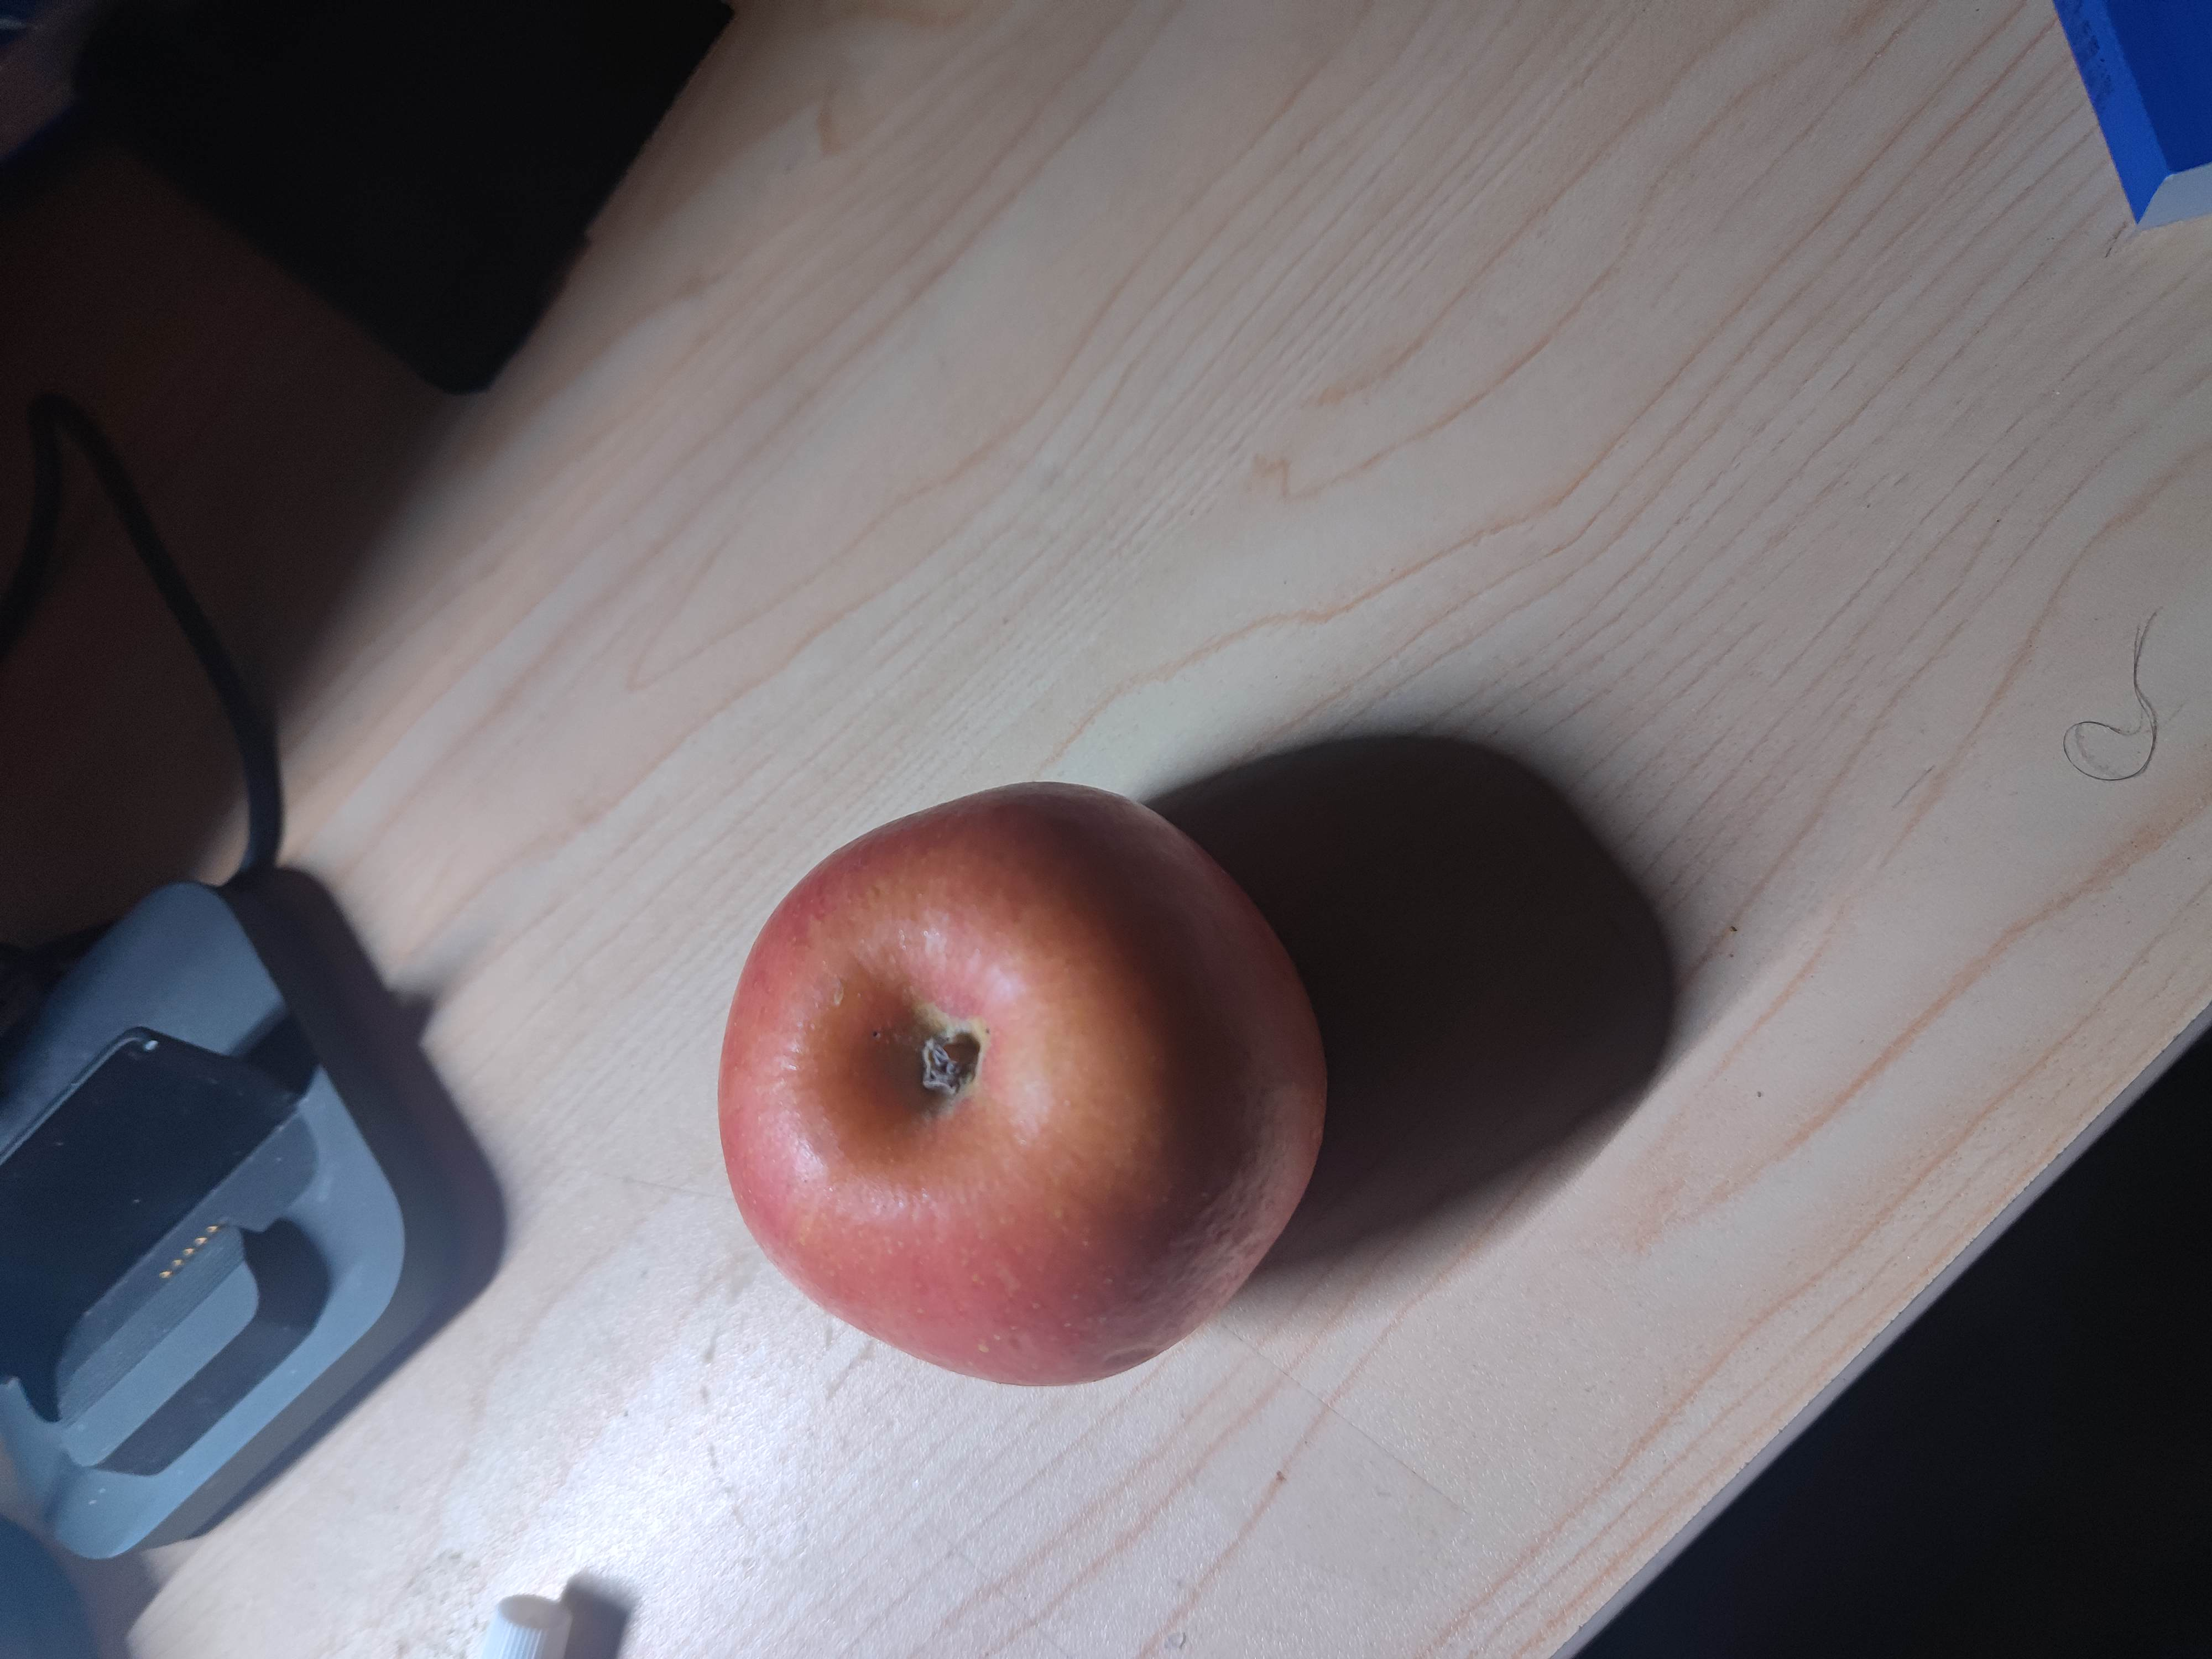apple: (718, 779, 1331, 1385)
